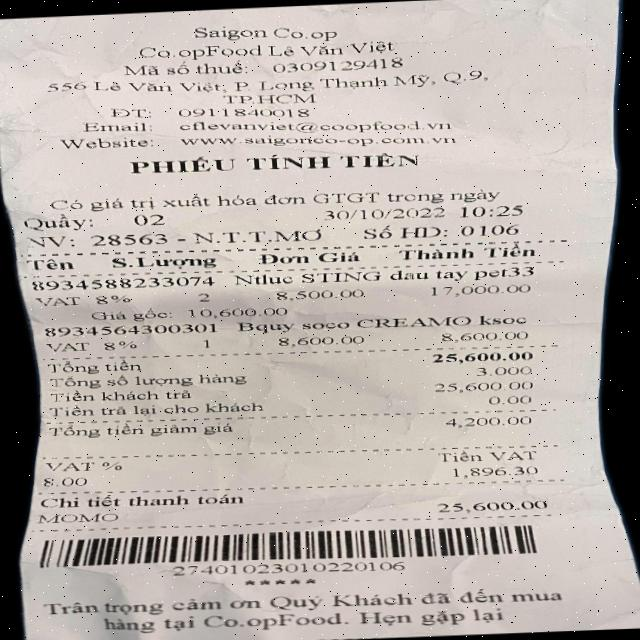Date: (312, 200, 456, 227)
Store_Name: (164, 14, 396, 48)
amount_number: (424, 346, 542, 368)
label_total: (43, 358, 144, 376)
